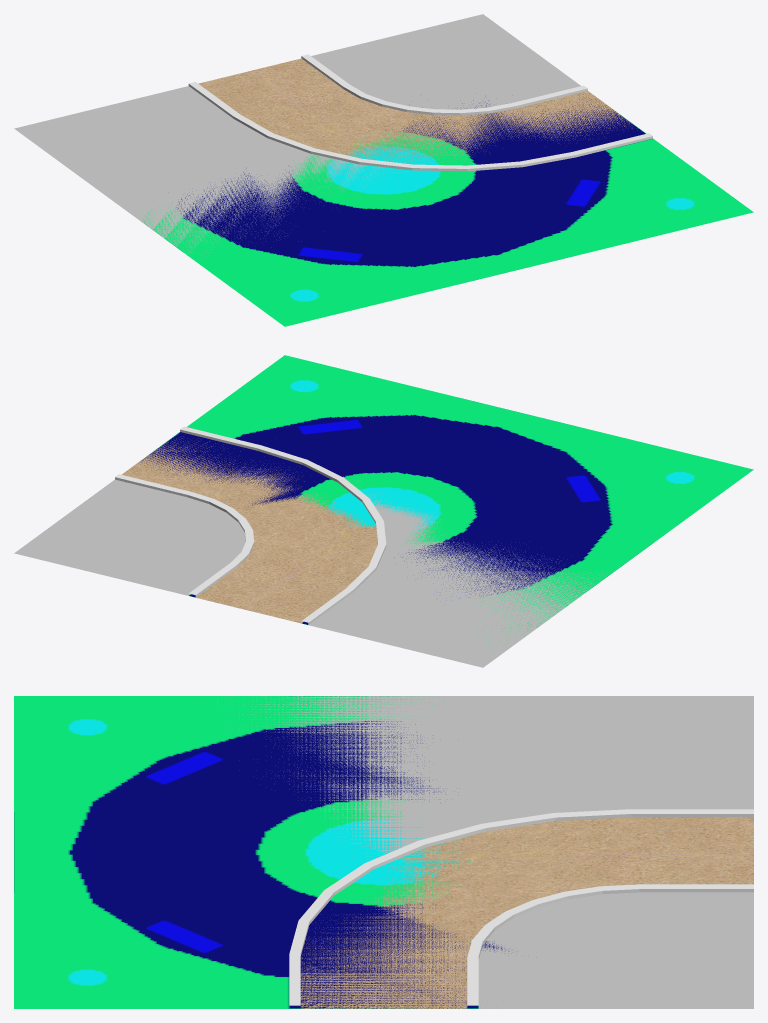
The model's file is Park-Turn_01.fbx.
3 views of the same model, one above another, from view 1: azimuth 30°, elevation 25°; view 2: azimuth 150°, elevation 25°; view 3: azimuth 270°, elevation 25° (orthographic). The views are drawn at different scales.
Parts seen in each view (by area): view 1: HeightMap, _T_Park_TurnBG_01; view 2: HeightMap, _T_Park_TurnBG_01; view 3: _T_Park_TurnBG_01, HeightMap.
Boxes of the visible parts, left/top/right/bottom form: HeightMap: left=142, top=94, right=753, bottom=326; _T_Park_TurnBG_01: left=14, top=14, right=652, bottom=257; HeightMap: left=140, top=355, right=753, bottom=647; _T_Park_TurnBG_01: left=14, top=426, right=606, bottom=667; _T_Park_TurnBG_01: left=217, top=696, right=753, bottom=1008; HeightMap: left=14, top=696, right=509, bottom=1008.
Bounding box in the file's own units: 2000 × 10 × 2000.
